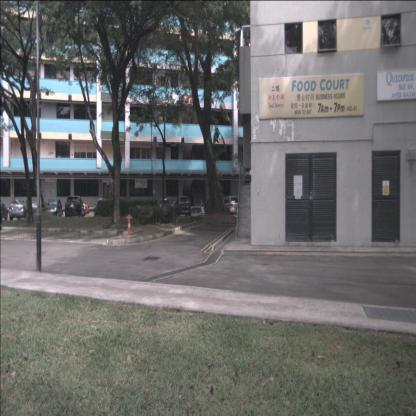vehicle-car: (9, 198, 35, 221), (62, 201, 90, 217), (42, 198, 62, 220), (64, 196, 84, 218), (221, 196, 240, 216), (175, 196, 192, 216), (204, 195, 220, 216), (26, 202, 41, 217), (159, 198, 171, 215), (0, 200, 9, 222)
